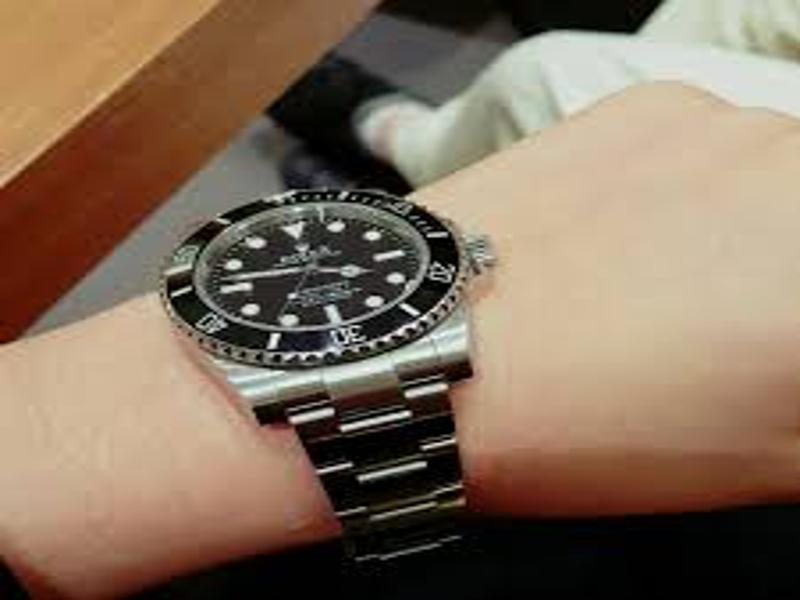watch: (153, 183, 495, 566)
